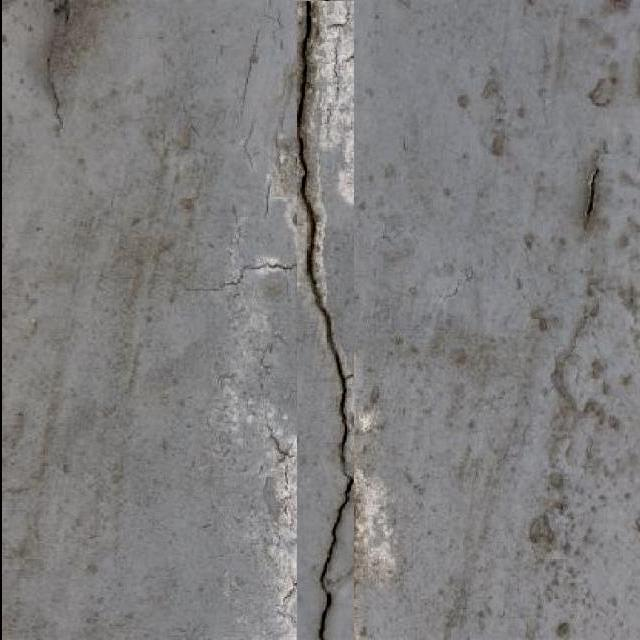Crack: (295, 0, 356, 639)
